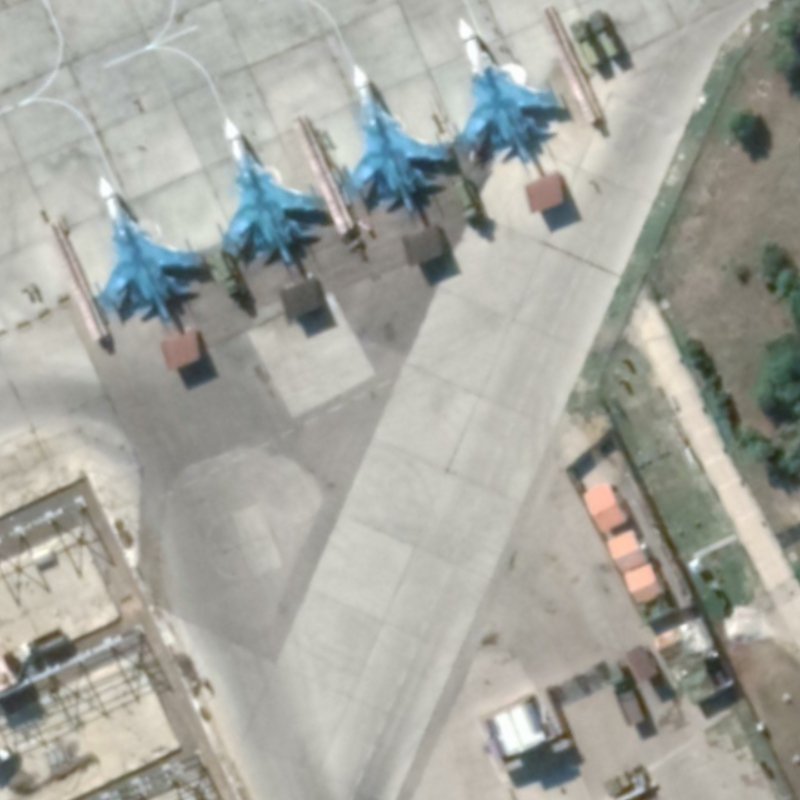A19: (213, 114, 328, 271), (336, 61, 452, 215), (89, 173, 205, 324), (452, 14, 566, 166)
